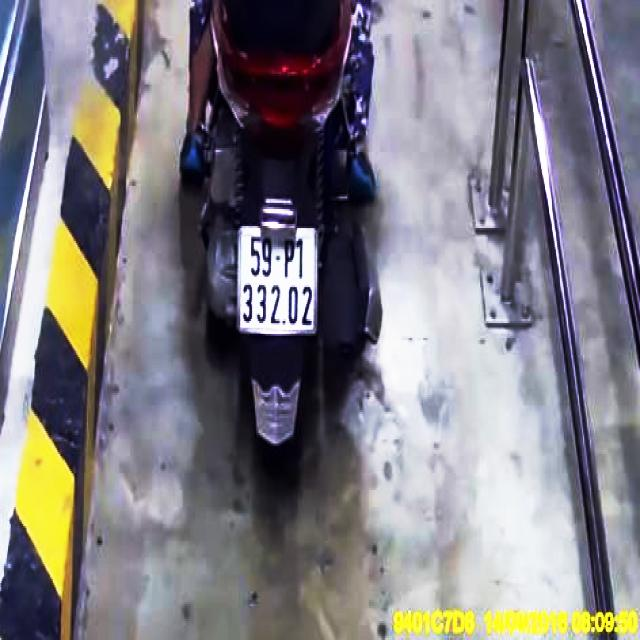license_plate: (241, 228, 318, 332)
